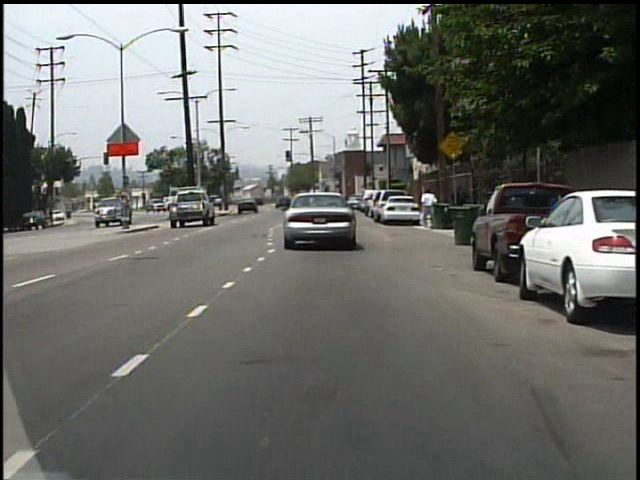person: (419, 187, 436, 231)
